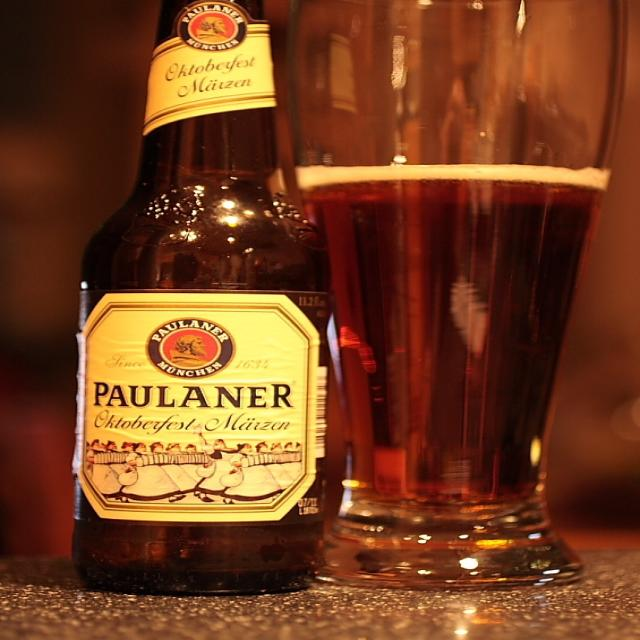paulaner: (146, 319, 234, 379), (179, 4, 246, 52)
